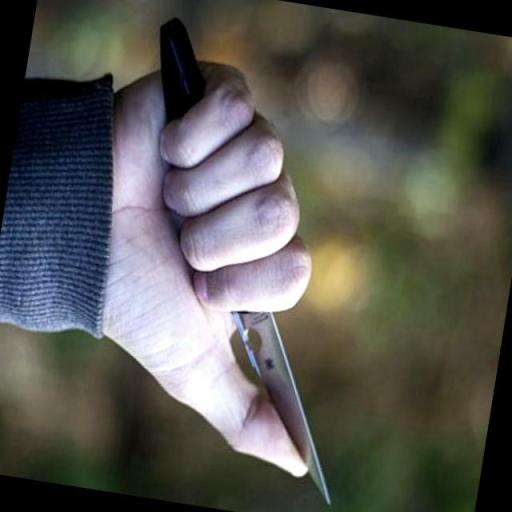knife: (111, 165, 389, 512)
